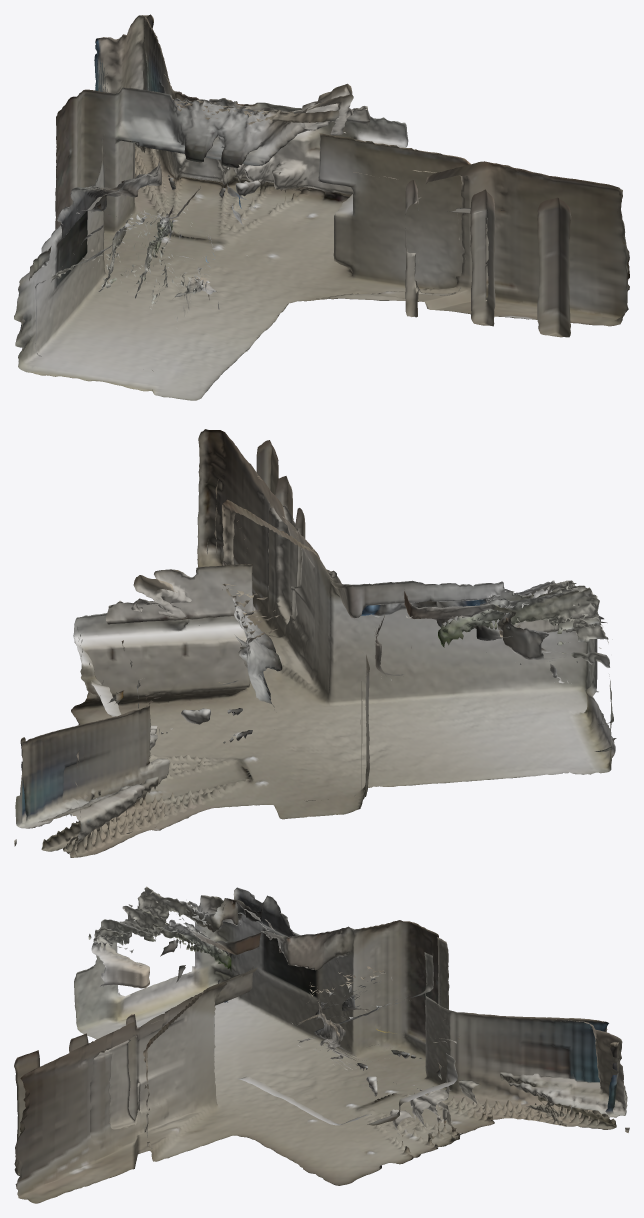
Rendered from world_unknown.glb.
3 renders of one model, top to bottom at view 1: azimuth 30°, elevation 25°; view 2: azimuth 150°, elevation 25°; view 3: azimuth 270°, elevation 25°, orthographic. The views are drawn at different scales.
Visible parts, largest first — view 1: world; view 2: world; view 3: world.
Boxes of the visible parts, <box> form: world: <box>14,14,629,400</box>; world: <box>14,429,616,857</box>; world: <box>14,886,629,1203</box>.
Bounding box in the file's own units: 6.46 × 1.77 × 7.48.
